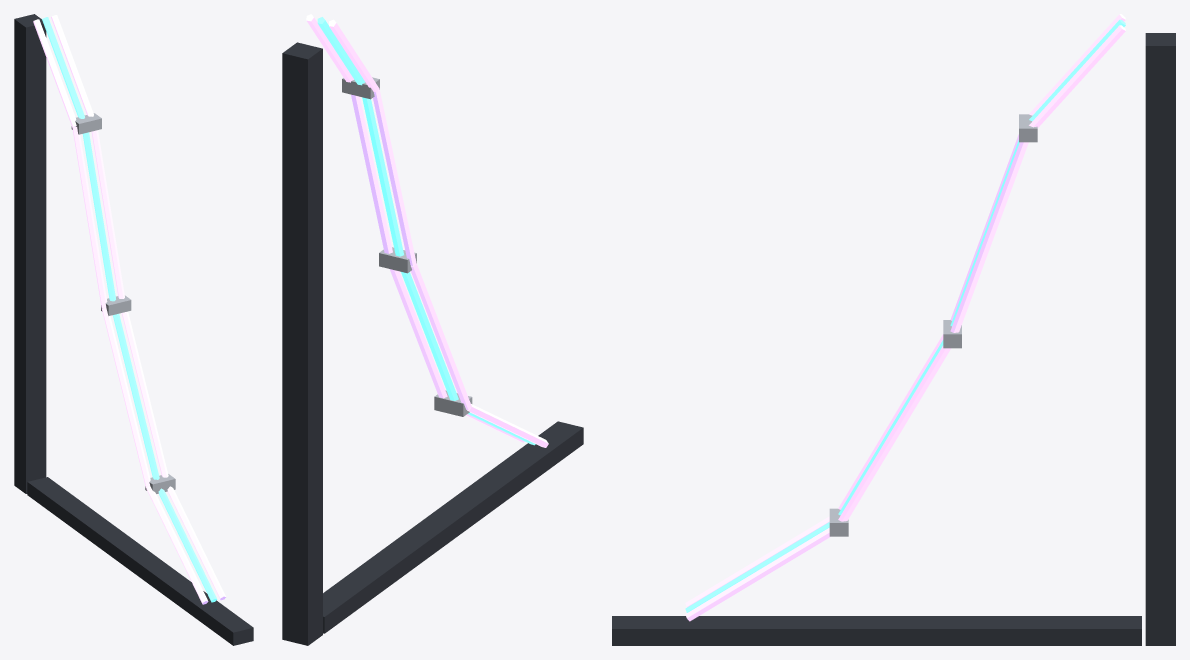
Rendered from station_buffer_ausstattung_3_3.glb.
3 renders of one model, left to right at view 1: azimuth 30°, elevation 25°; view 2: azimuth 150°, elevation 25°; view 3: azimuth 270°, elevation 25°, orthographic. The views are drawn at different scales.
Visible parts, largest first — view 1: station_buffer_ausstattung_3_3; view 2: station_buffer_ausstattung_3_3; view 3: station_buffer_ausstattung_3_3.
Boxes of the visible parts, x1=… form: station_buffer_ausstattung_3_3: x1=14, y1=14, x2=253, y2=645; station_buffer_ausstattung_3_3: x1=282, y1=14, x2=583, y2=645; station_buffer_ausstattung_3_3: x1=612, y1=14, x2=1175, y2=645.
Bounding box in the file's own units: 0.1115 × 1.81 × 1.49.
